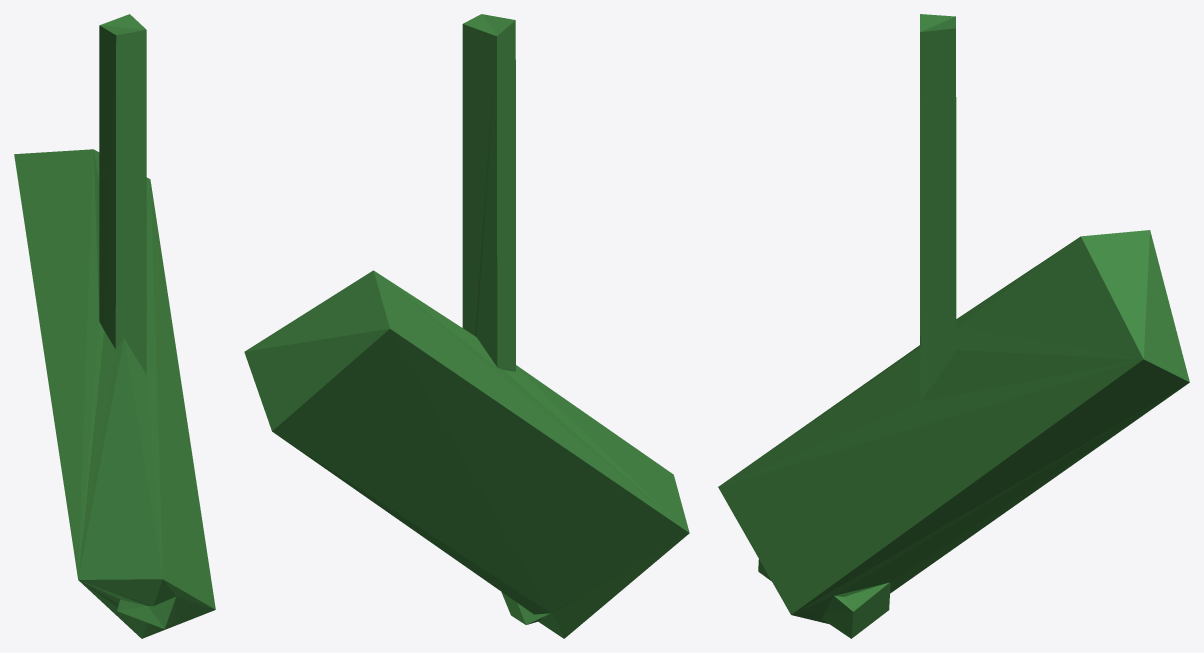
The picture shows the model from 3 angles, left to right: view 1: azimuth 30°, elevation 25°; view 2: azimuth 150°, elevation 25°; view 3: azimuth 270°, elevation 25°; orthographic projection. The views are drawn at different scales.
Parts seen in each view (by area): view 1: 677_Cube.2718; view 2: 677_Cube.2718; view 3: 677_Cube.2718.
Boxes of the visible parts, bbox=[...] form: 677_Cube.2718: bbox=[14, 14, 215, 638]; 677_Cube.2718: bbox=[244, 14, 689, 638]; 677_Cube.2718: bbox=[718, 14, 1189, 638].
Bounding box in the file's own units: 6.87 × 16.12 × 11.12.
